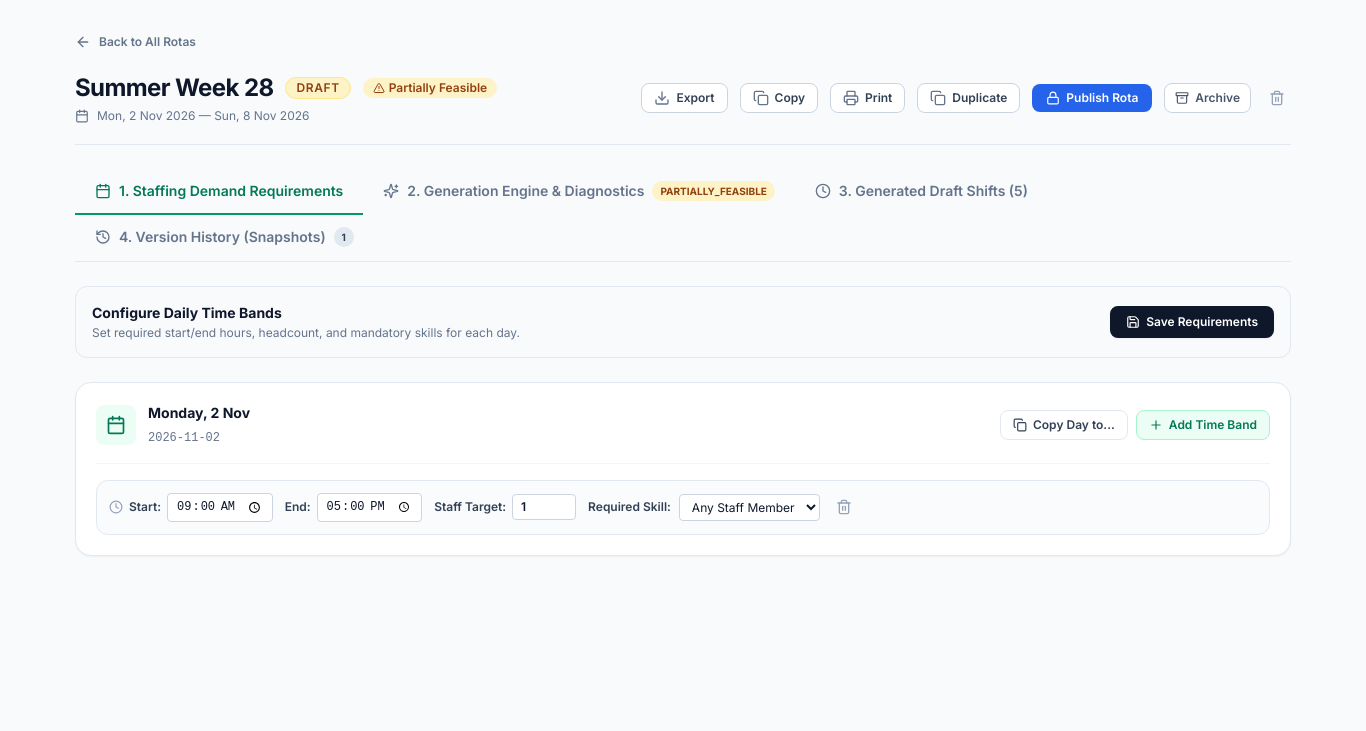
Milestone 5 Frontend - Rota Snapshots, Diagnostics & Transparency › renders the employment-law compliance disclaimer and solver options
Check: the heading "Summer Week 28" is shown, box [75,72,274,104]
Click the button "2. Generation Engine & Diagnostics partially_feasible" at (579, 192), box [363,169,795,215]
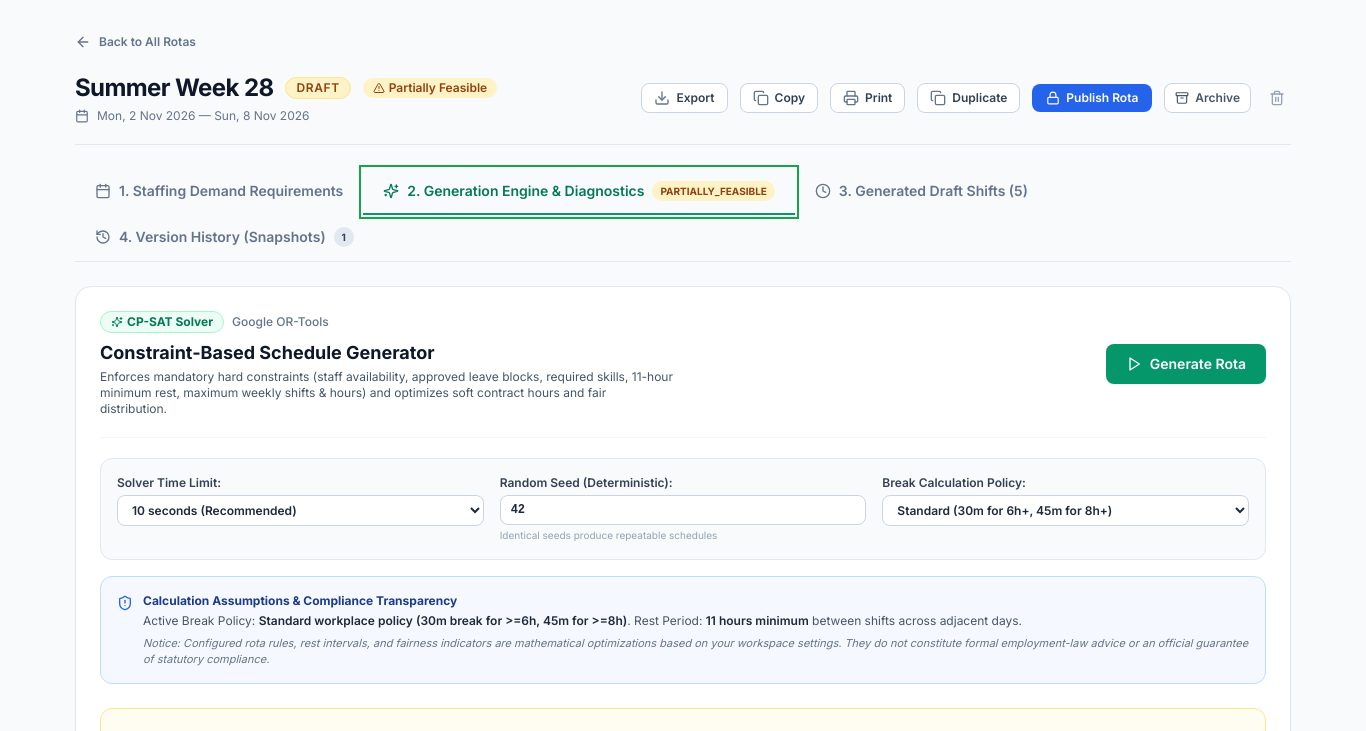
Check: the text "They do not constitute formal employment-law advice or an official guarantee of statutory compliance" is shown, box [143,636,1248,666]
Check: the text "Random Seed (Deterministic):" is shown, box [500,475,673,490]
Check: the text "Break Calculation Policy:" is shown, box [882,475,1026,490]
